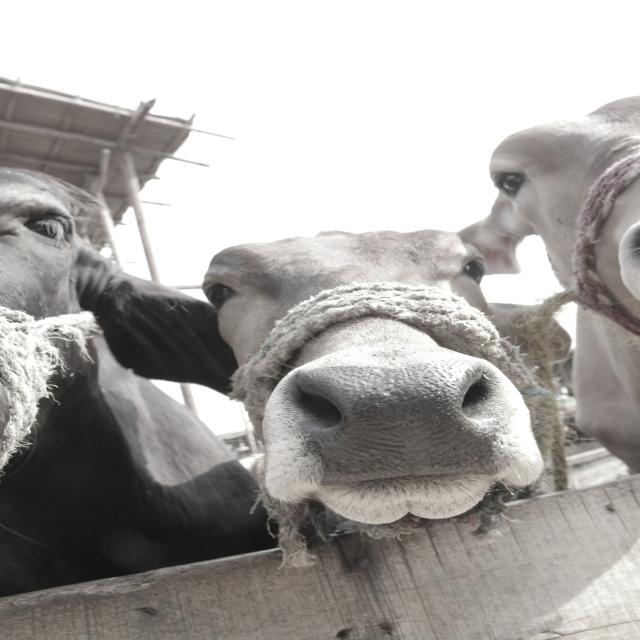muzzles: (271, 356, 535, 484)
